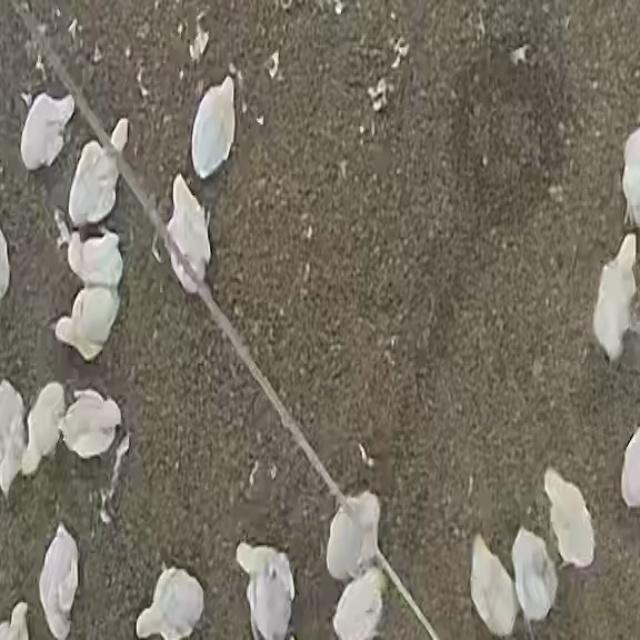chicken: (68, 116, 132, 229), (545, 461, 601, 574), (235, 543, 297, 640), (164, 172, 212, 297), (592, 236, 638, 364), (47, 288, 122, 363), (468, 534, 518, 638), (326, 490, 381, 584), (135, 566, 204, 640), (192, 75, 240, 179), (511, 528, 557, 630), (19, 90, 74, 172), (39, 525, 78, 638), (60, 389, 121, 459), (331, 567, 388, 640), (21, 382, 66, 473), (65, 222, 124, 287), (0, 382, 25, 492)
